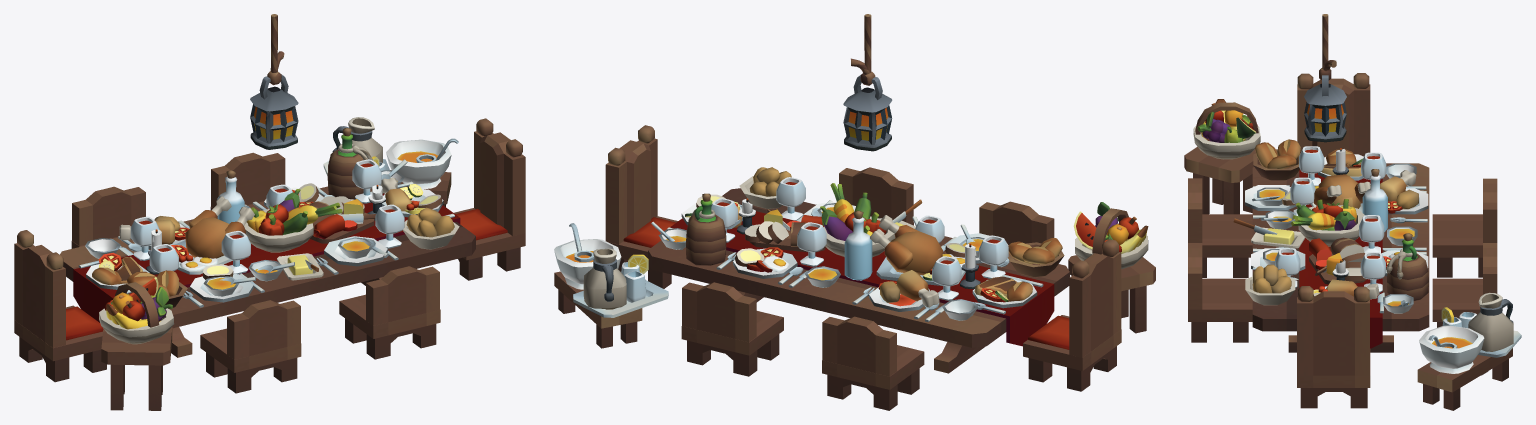
Rendered from table_with_food_prefab.fbx.
3 renders of one model, left to right at view 1: azimuth 30°, elevation 25°; view 2: azimuth 150°, elevation 25°; view 3: azimuth 270°, elevation 25°, orthographic. The views are drawn at different scales.
Parts seen in each view (by area): view 1: table_with_food_prefab; view 2: table_with_food_prefab; view 3: table_with_food_prefab.
Part boxes in pixels (left/top/right/bottom): table_with_food_prefab: left=14, top=14, right=525, bottom=410; table_with_food_prefab: left=554, top=14, right=1155, bottom=410; table_with_food_prefab: left=1184, top=14, right=1521, bottom=410.
Size of the model in its own units: 501 by 299 by 321.
